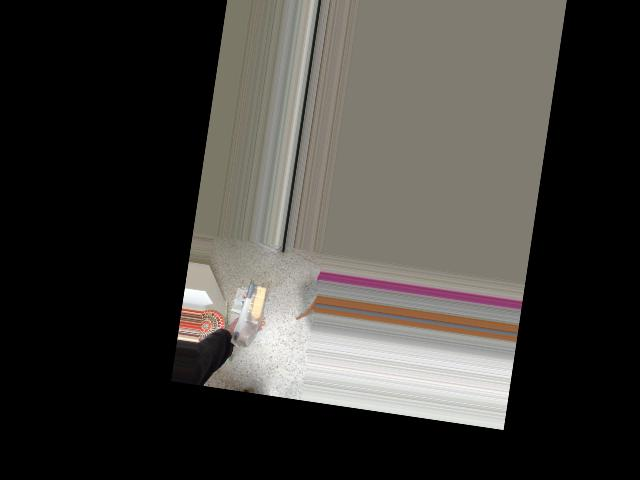cheese: (230, 280, 269, 347)
